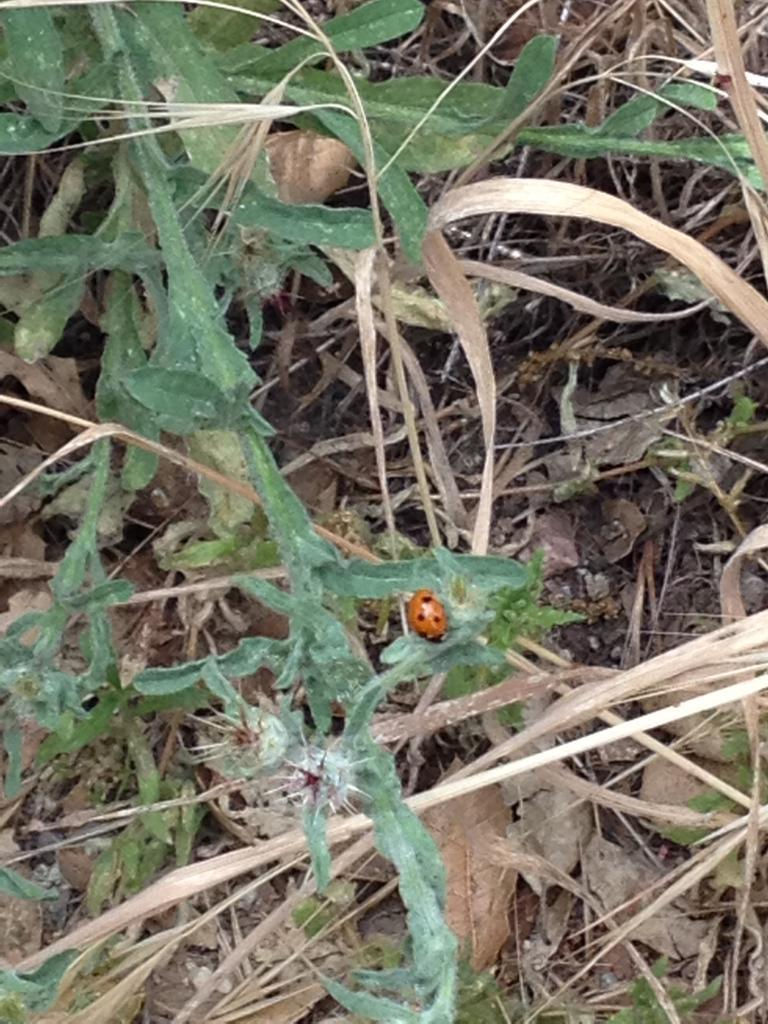ladybug: (406, 590, 453, 646)
